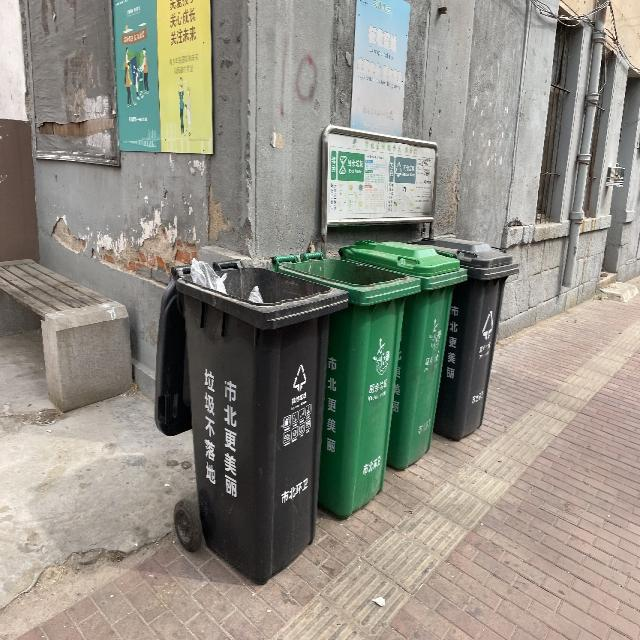garbage_bin: (271, 251, 419, 518), (337, 239, 467, 469), (409, 236, 518, 439)
overflow: (153, 259, 348, 583)
